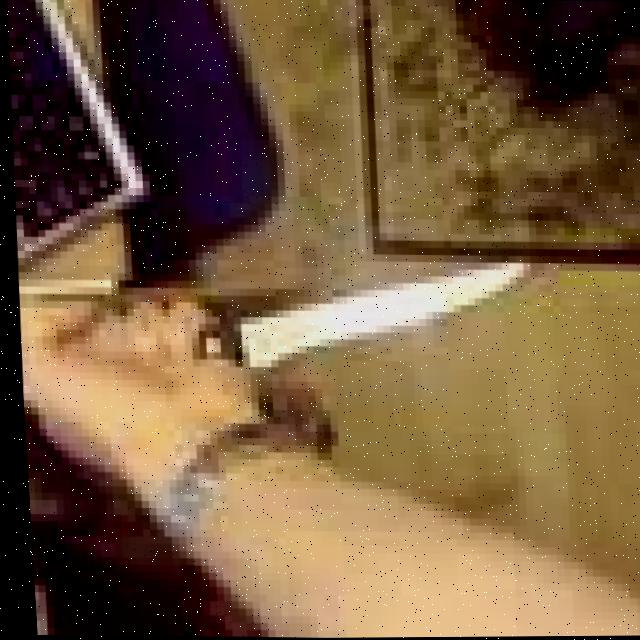knife: (227, 250, 537, 377)
